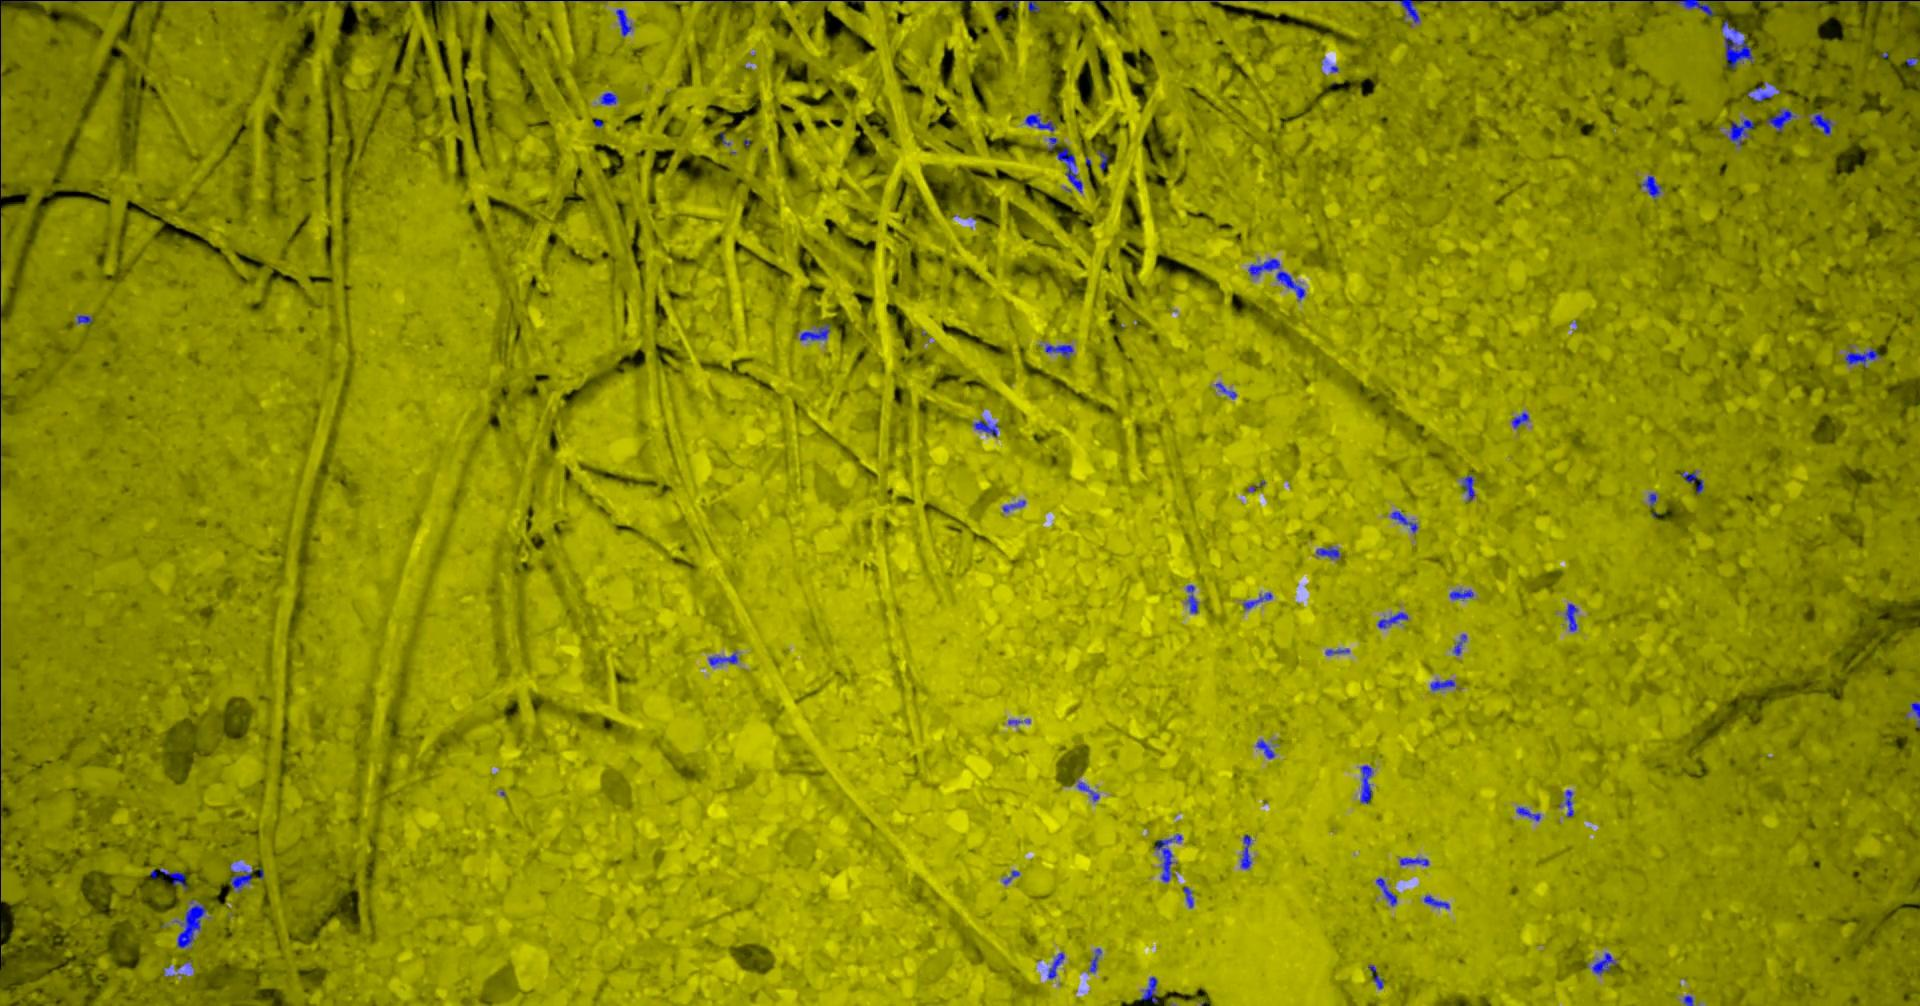ant: (1247, 258, 1304, 300), (1719, 20, 1752, 69), (177, 901, 206, 948), (1154, 833, 1182, 882), (1057, 147, 1082, 192), (1671, 0, 1724, 17), (149, 869, 185, 889), (1728, 118, 1754, 145), (1766, 108, 1796, 131), (1396, 0, 1423, 22), (1375, 876, 1396, 906), (1845, 348, 1878, 366), (1390, 511, 1417, 532), (1810, 111, 1832, 135), (229, 866, 251, 890), (1591, 951, 1615, 974), (1023, 113, 1054, 131), (799, 323, 829, 340), (1377, 611, 1407, 627), (1359, 765, 1371, 803), (1242, 592, 1271, 608), (1681, 471, 1703, 493), (1076, 781, 1098, 801), (615, 8, 631, 36), (1048, 951, 1064, 979), (1044, 344, 1073, 359), (1139, 976, 1156, 1002), (1641, 175, 1661, 197), (971, 420, 998, 436), (1558, 789, 1573, 815), (709, 652, 737, 666), (1239, 835, 1251, 868), (1747, 86, 1771, 102), (1368, 964, 1383, 988), (1564, 603, 1577, 631), (1515, 807, 1540, 821), (1256, 739, 1274, 758), (1462, 475, 1474, 500), (1423, 895, 1449, 908), (1186, 584, 1197, 612), (1215, 382, 1236, 398), (1451, 634, 1465, 655), (1001, 499, 1025, 511), (1090, 948, 1101, 972), (1511, 412, 1528, 428), (1316, 546, 1338, 558), (1449, 589, 1473, 600), (1430, 680, 1454, 690), (1096, 149, 1107, 169), (599, 91, 617, 104), (1910, 701, 1919, 727), (1399, 857, 1429, 865), (1182, 887, 1192, 907), (76, 314, 91, 324), (1027, 0, 1039, 11)
